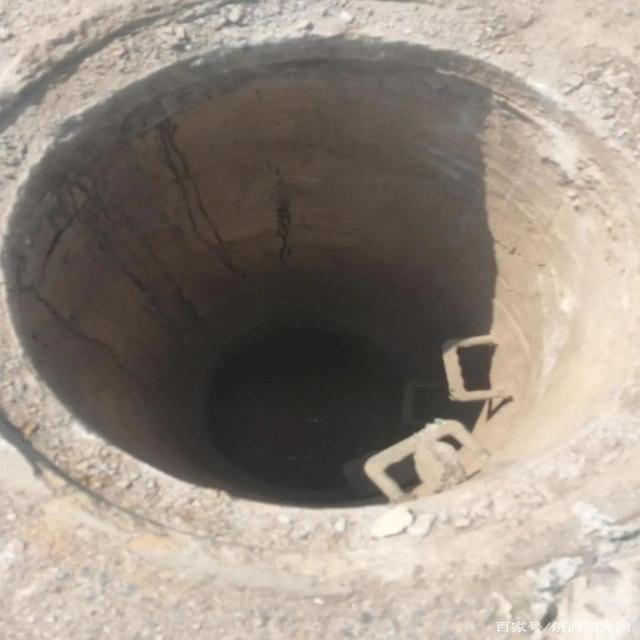manhole-cover: (9, 66, 640, 515)
